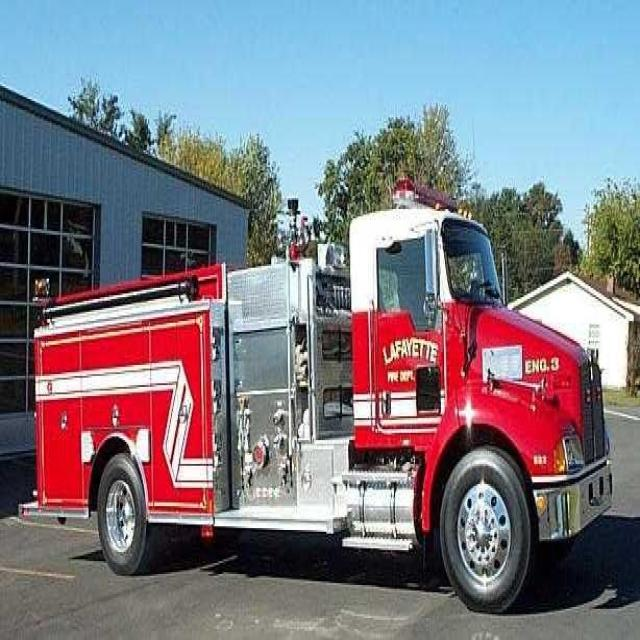ambulance: (19, 179, 614, 616)
